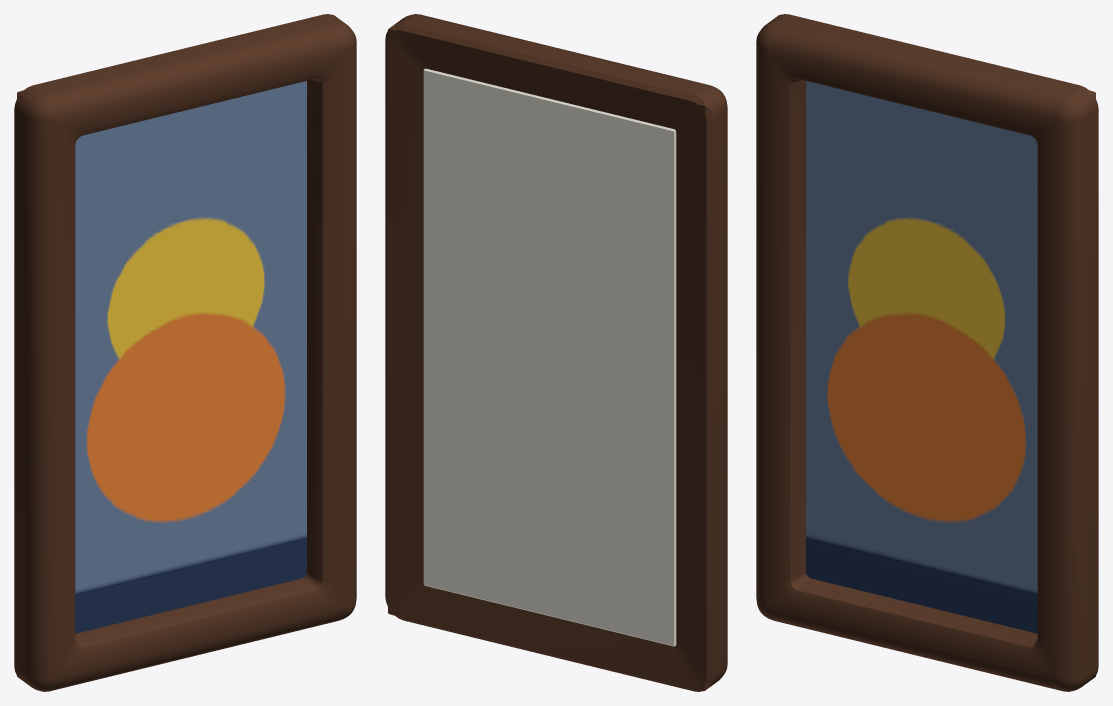
The model's file is quadro_dois_sois.glb.
The picture shows the model from 3 angles, left to right: view 1: azimuth 30°, elevation 25°; view 2: azimuth 150°, elevation 25°; view 3: azimuth 330°, elevation 25°; orthographic projection.
Parts seen in each view (by area): view 1: quadro_dois_sois; view 2: quadro_dois_sois; view 3: quadro_dois_sois.
Boxes of the visible parts, x1,y1,x2,y2 form: quadro_dois_sois: [14, 14, 356, 691]; quadro_dois_sois: [385, 14, 727, 691]; quadro_dois_sois: [756, 14, 1098, 691].
Size of the model in its own units: 0.244 by 0.424 by 0.032.
2 materials, 2 textured.
